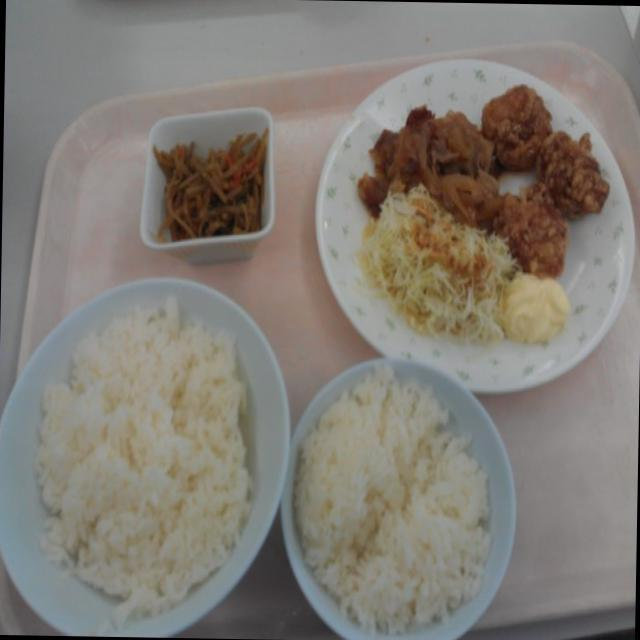Rice: (26, 304, 277, 614)
